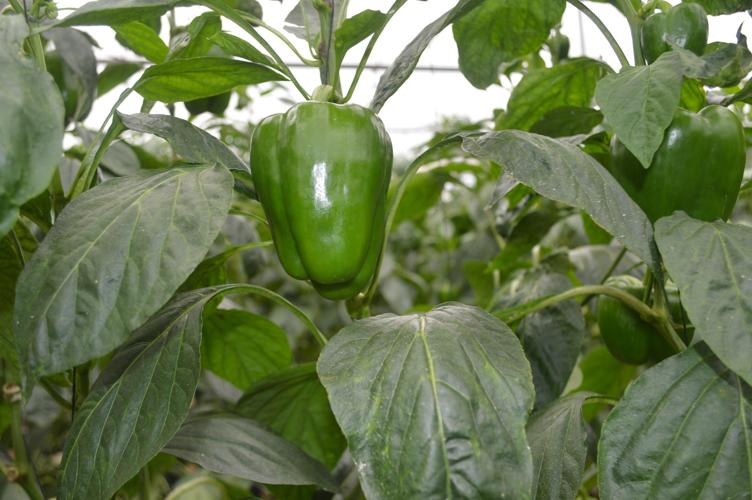BellPepper: (245, 100, 398, 298), (599, 85, 749, 264), (584, 268, 702, 368)
